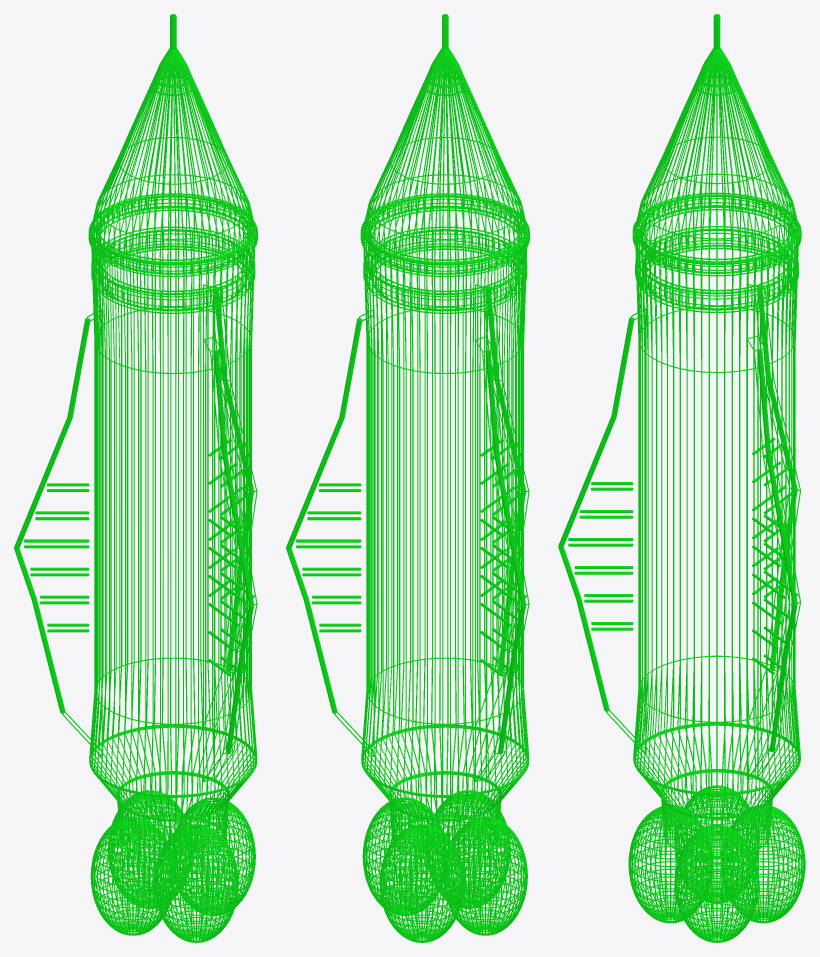
Rendered from mega-missile-wireframe.glb.
The picture shows the model from 3 angles, left to right: view 1: azimuth 30°, elevation 25°; view 2: azimuth 150°, elevation 25°; view 3: azimuth 270°, elevation 25°; orthographic projection.
Parts seen in each view (by area): view 1: chassis technical wire, four-directional-thrusters technical wire, manoeuvring-fins technical wire, nose-guidance-sensors technical wire; view 2: chassis technical wire, four-directional-thrusters technical wire, manoeuvring-fins technical wire, nose-guidance-sensors technical wire; view 3: chassis technical wire, four-directional-thrusters technical wire, manoeuvring-fins technical wire, nose-guidance-sensors technical wire.
Part boxes in pixels (bbox=[...]): chassis technical wire: bbox=[88, 193, 257, 860]; four-directional-thrusters technical wire: bbox=[90, 790, 255, 942]; manoeuvring-fins technical wire: bbox=[14, 284, 257, 782]; nose-guidance-sensors technical wire: bbox=[91, 14, 254, 264]; chassis technical wire: bbox=[360, 193, 529, 860]; four-directional-thrusters technical wire: bbox=[362, 790, 527, 942]; manoeuvring-fins technical wire: bbox=[286, 284, 529, 782]; nose-guidance-sensors technical wire: bbox=[363, 14, 526, 264]; chassis technical wire: bbox=[632, 192, 801, 858]; four-directional-thrusters technical wire: bbox=[628, 785, 805, 942]; manoeuvring-fins technical wire: bbox=[558, 284, 800, 779]; nose-guidance-sensors technical wire: bbox=[635, 14, 798, 264].
Bounding box in the file's own units: 1.8 × 6.47 × 1.6.
